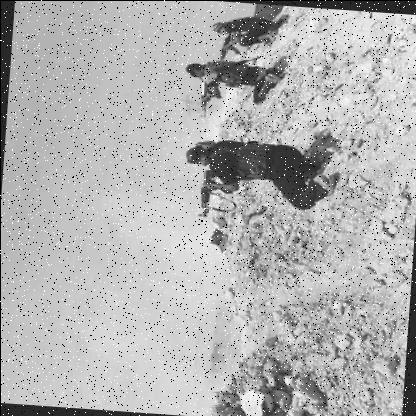rifle: (193, 164, 225, 218), (194, 76, 223, 119), (213, 29, 245, 63)
